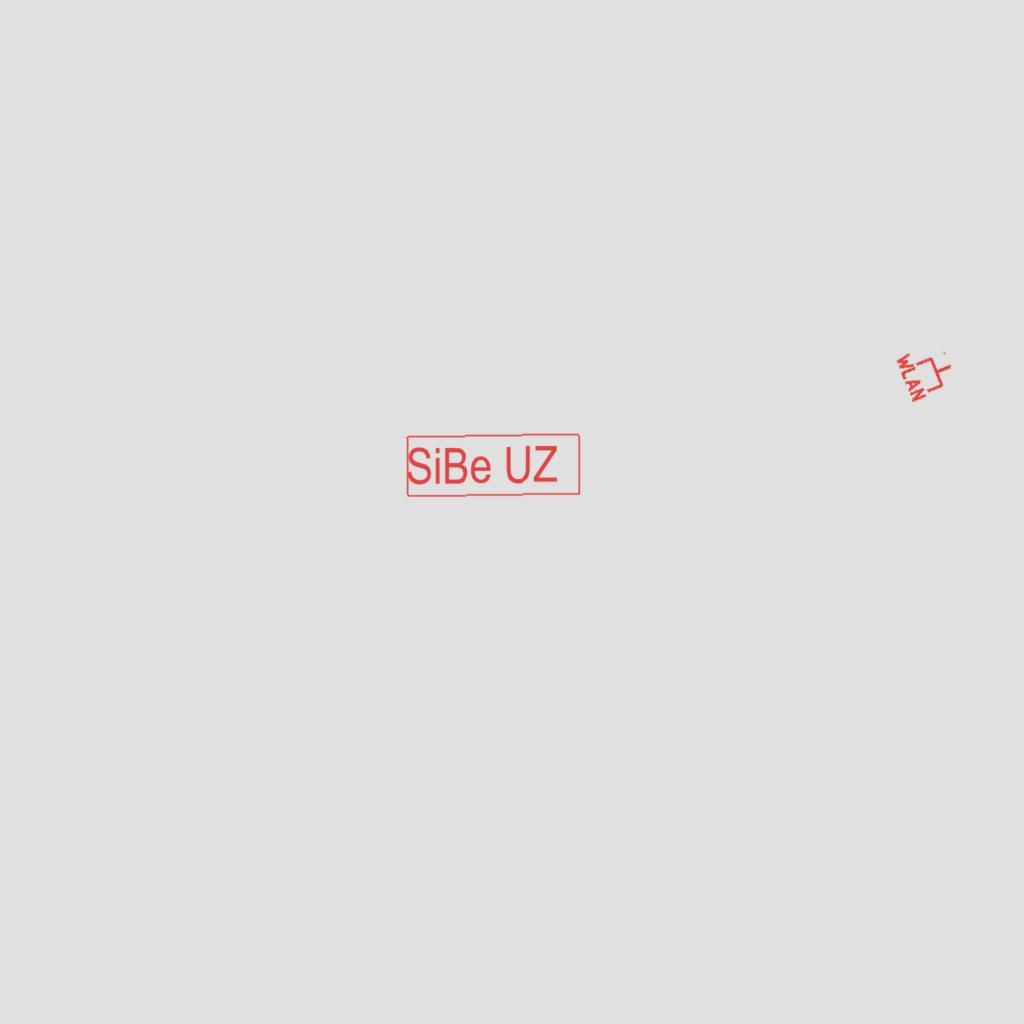WLAN: (893, 337, 961, 405)
Zentrale_Sicherheitsbeleuchtung: (404, 431, 584, 500)
